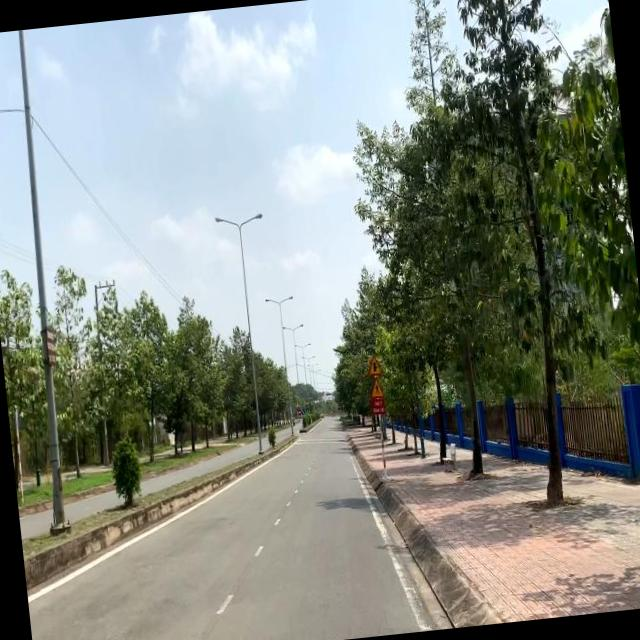W-207b: (364, 351, 384, 378)
W-224: (366, 376, 386, 401)
